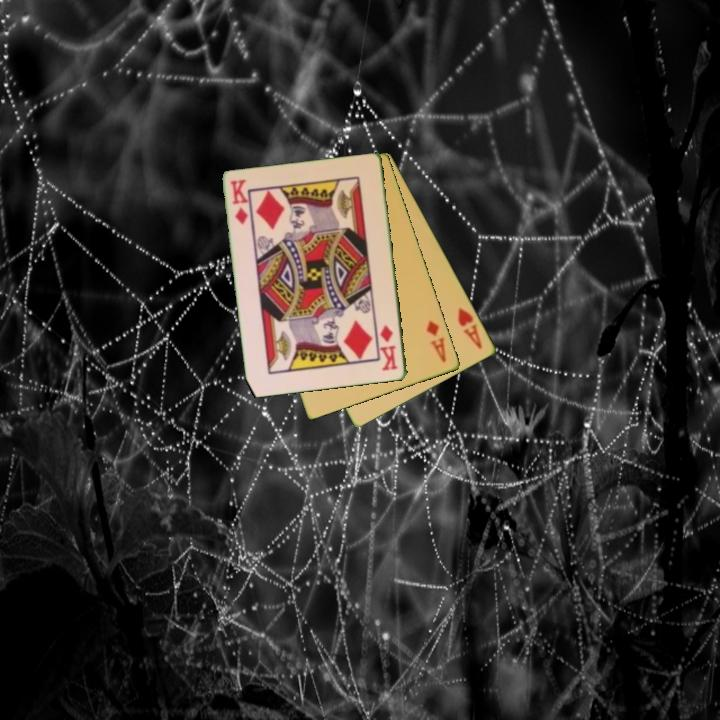Ad: (423, 317, 449, 366)
Ah: (454, 304, 485, 352)
Kd: (376, 321, 400, 373), (227, 176, 251, 228)
